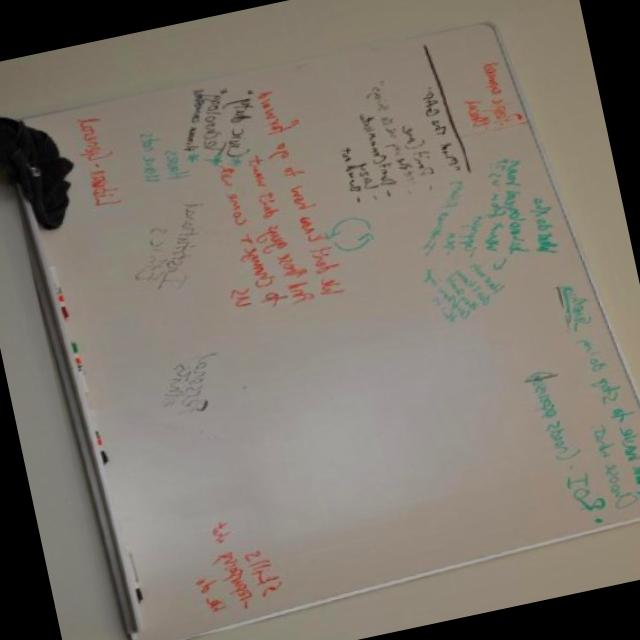White-board: (16, 24, 640, 640)
